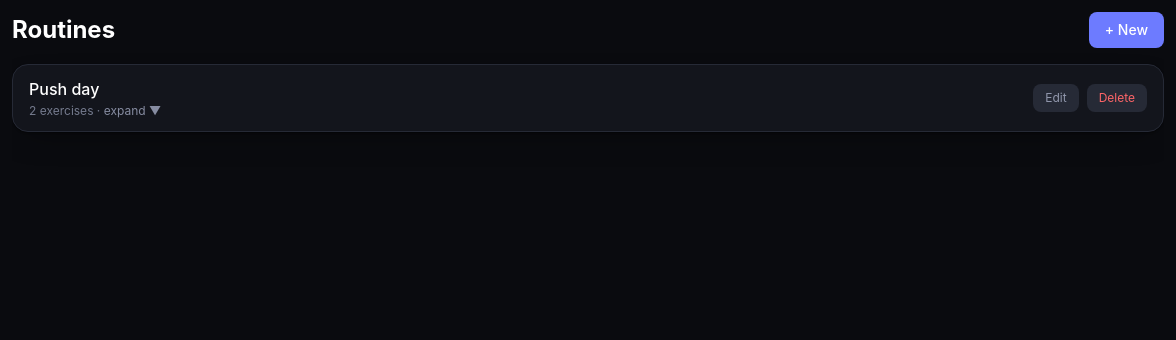
RoutinesPage reordering › disables the arrows at the ends of the list
This screenshot has width=1176, height=340.
Step 1. Click the text "Push day" → point(64, 89), box [29,79,99,99]
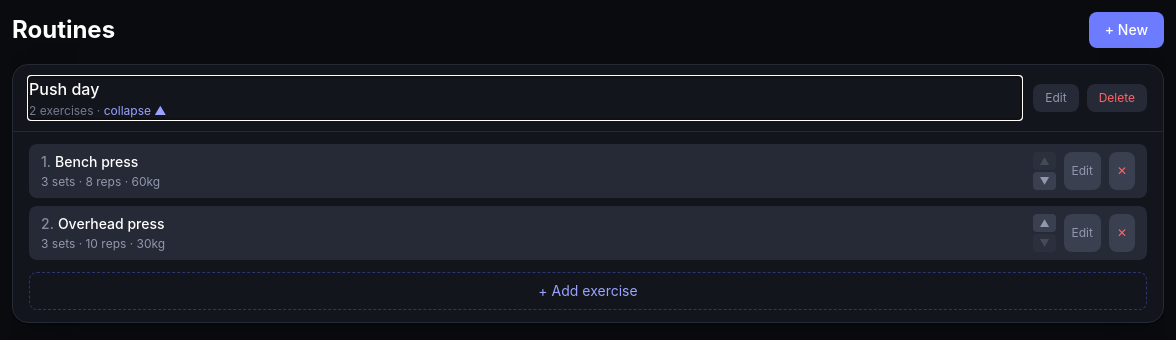
Check: the button named "Move Bench press up" is disabled, box [1033,152,1056,170]
Check: the button named "Move Overhead press down" is disabled, box [1033,234,1056,252]
Check: the button named "Move Bench press down" is enabled, box [1033,172,1056,190]
